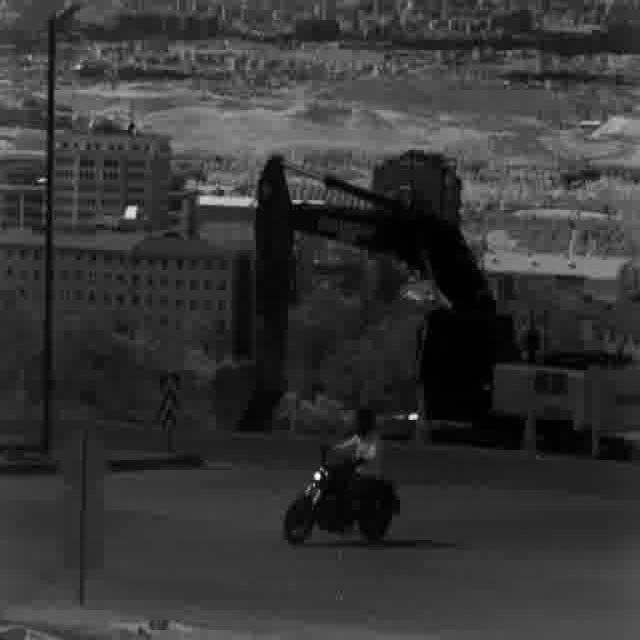Motorcycle: (281, 404, 405, 548)
